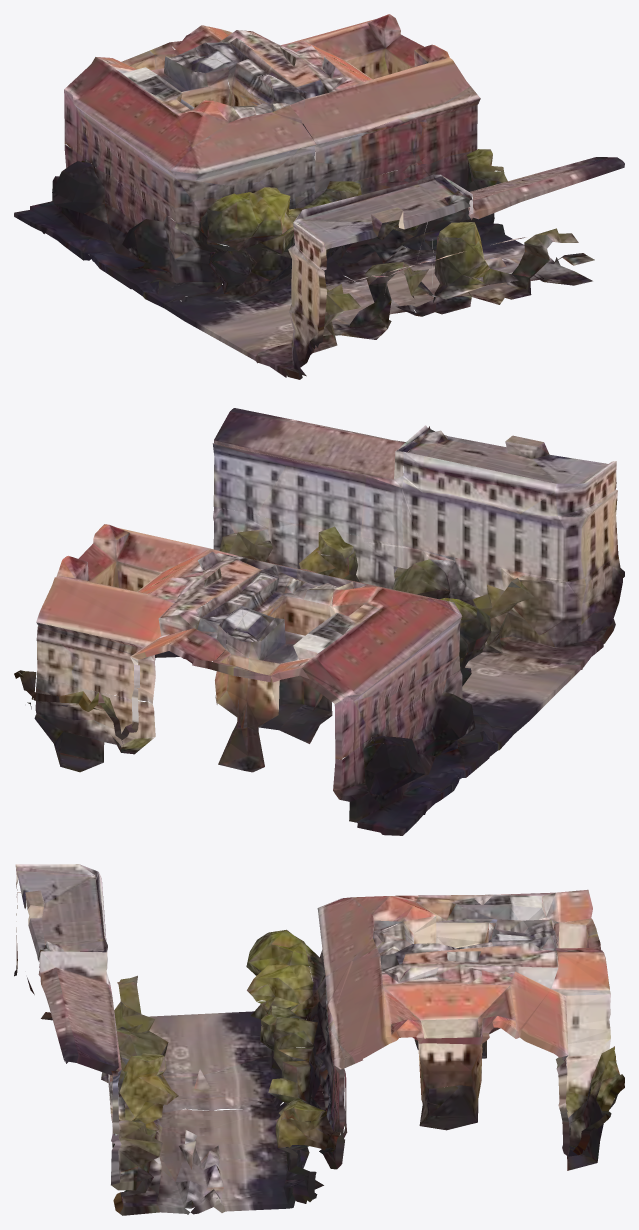
3 renders of one model, top to bottom at view 1: azimuth 30°, elevation 25°; view 2: azimuth 150°, elevation 25°; view 3: azimuth 270°, elevation 25°, orthographic. The views are drawn at different scales.
Visible parts, largest first — view 1: Mesh_0; view 2: Mesh_0; view 3: Mesh_0.
Boxes of the visible parts, x1=… form: Mesh_0: x1=14, y1=14, x2=624, y2=379; Mesh_0: x1=14, y1=408, x2=624, y2=835; Mesh_0: x1=14, y1=864, x2=624, y2=1215.
Size of the model in its own units: 66.57 by 27.82 by 82.57.
Materials: 1 (1 with a texture image).
